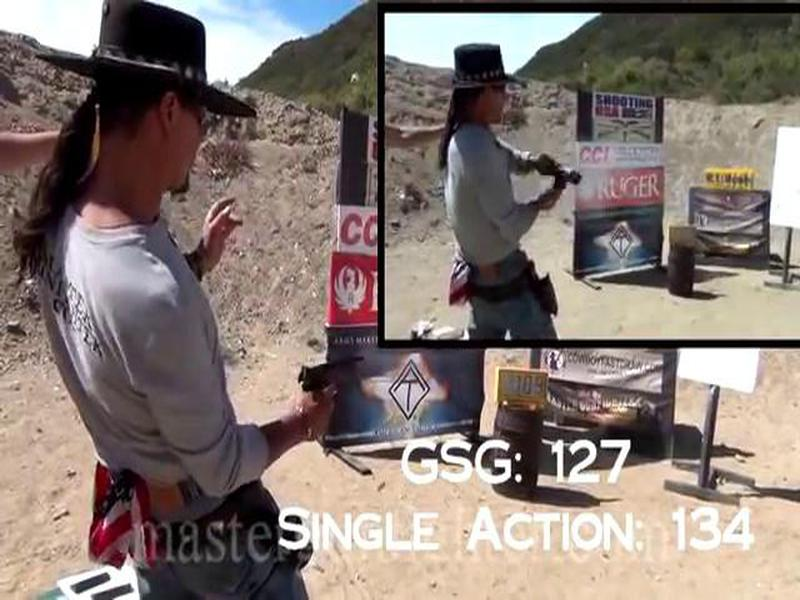Pistola: (284, 348, 382, 439)
